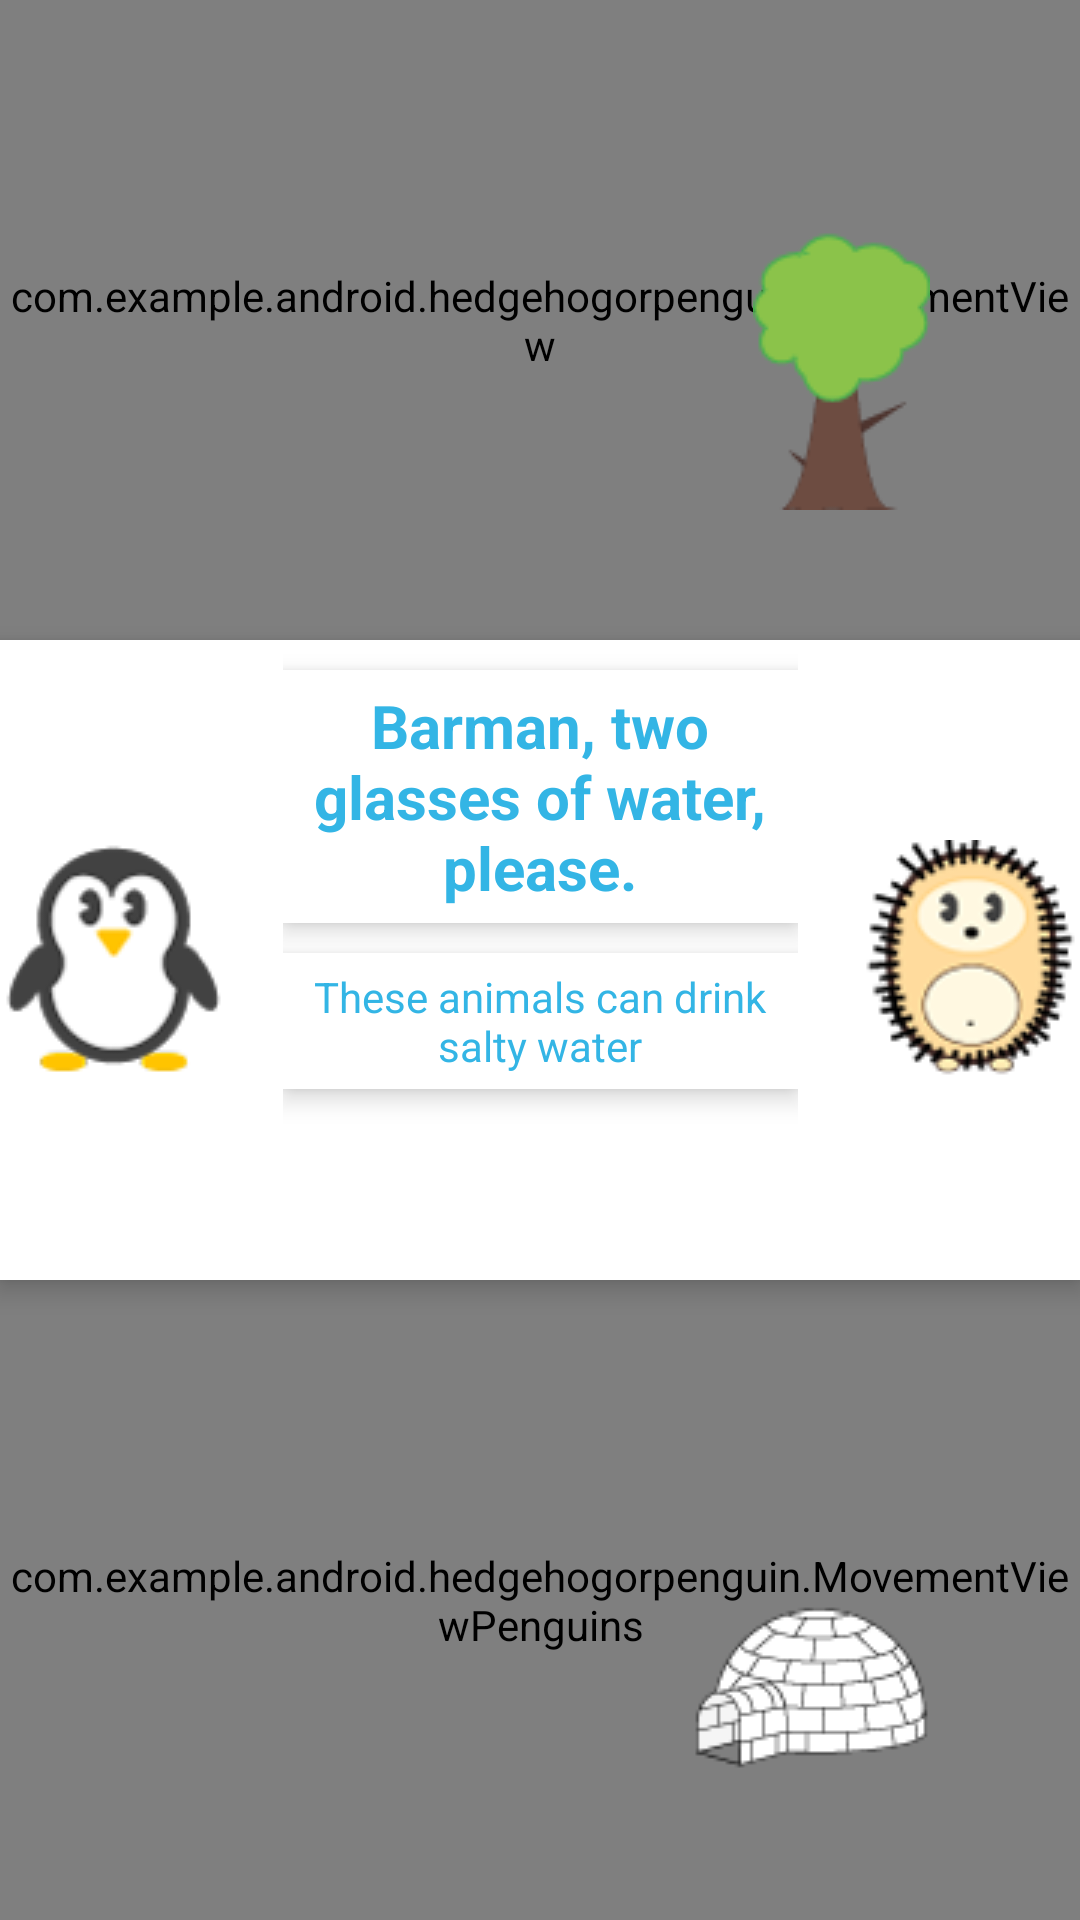

Icon bounding boxes for this 1080×1920 phone screenshot, format detection(x1, y1, x2, y2):
hedgehog middle: detection(867, 840, 1074, 1074)
iglu: detection(696, 1608, 927, 1767)
penguin medium: detection(7, 846, 220, 1072)
tree: detection(753, 234, 930, 510)
